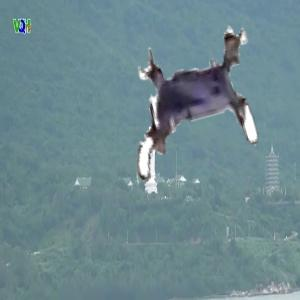drone: (114, 25, 274, 185)
